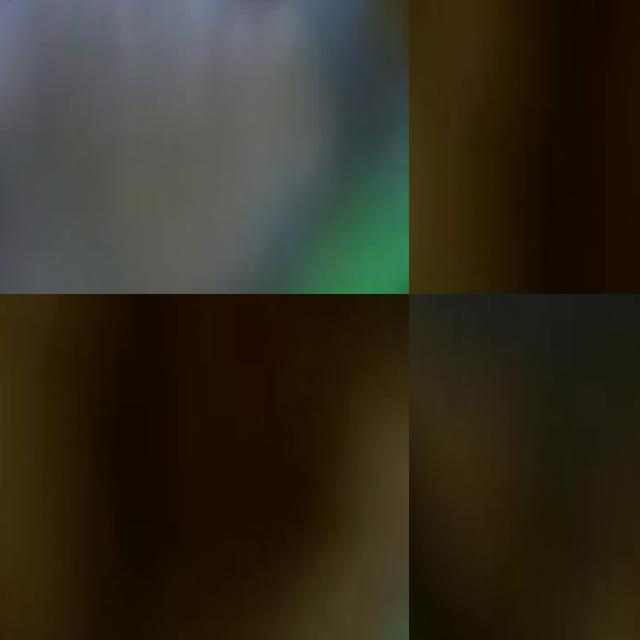fish: (0, 0, 409, 294), (409, 0, 640, 294)
